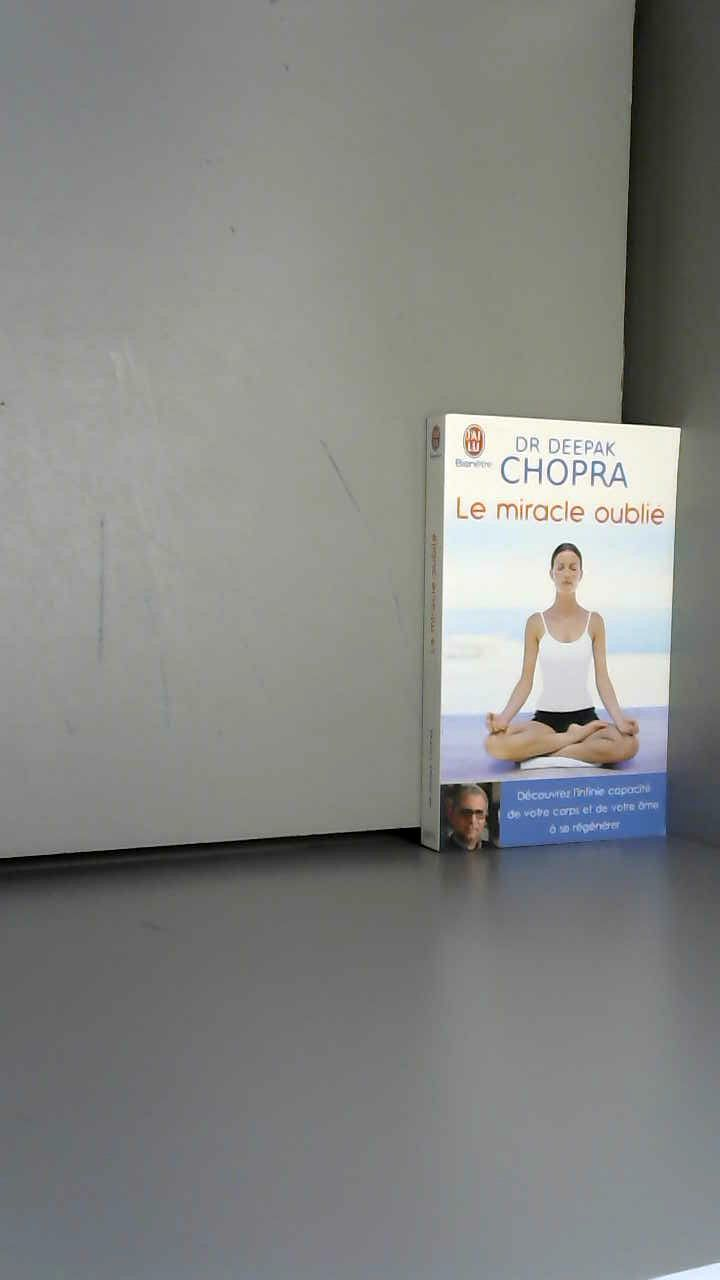book: (410, 390, 718, 878)
